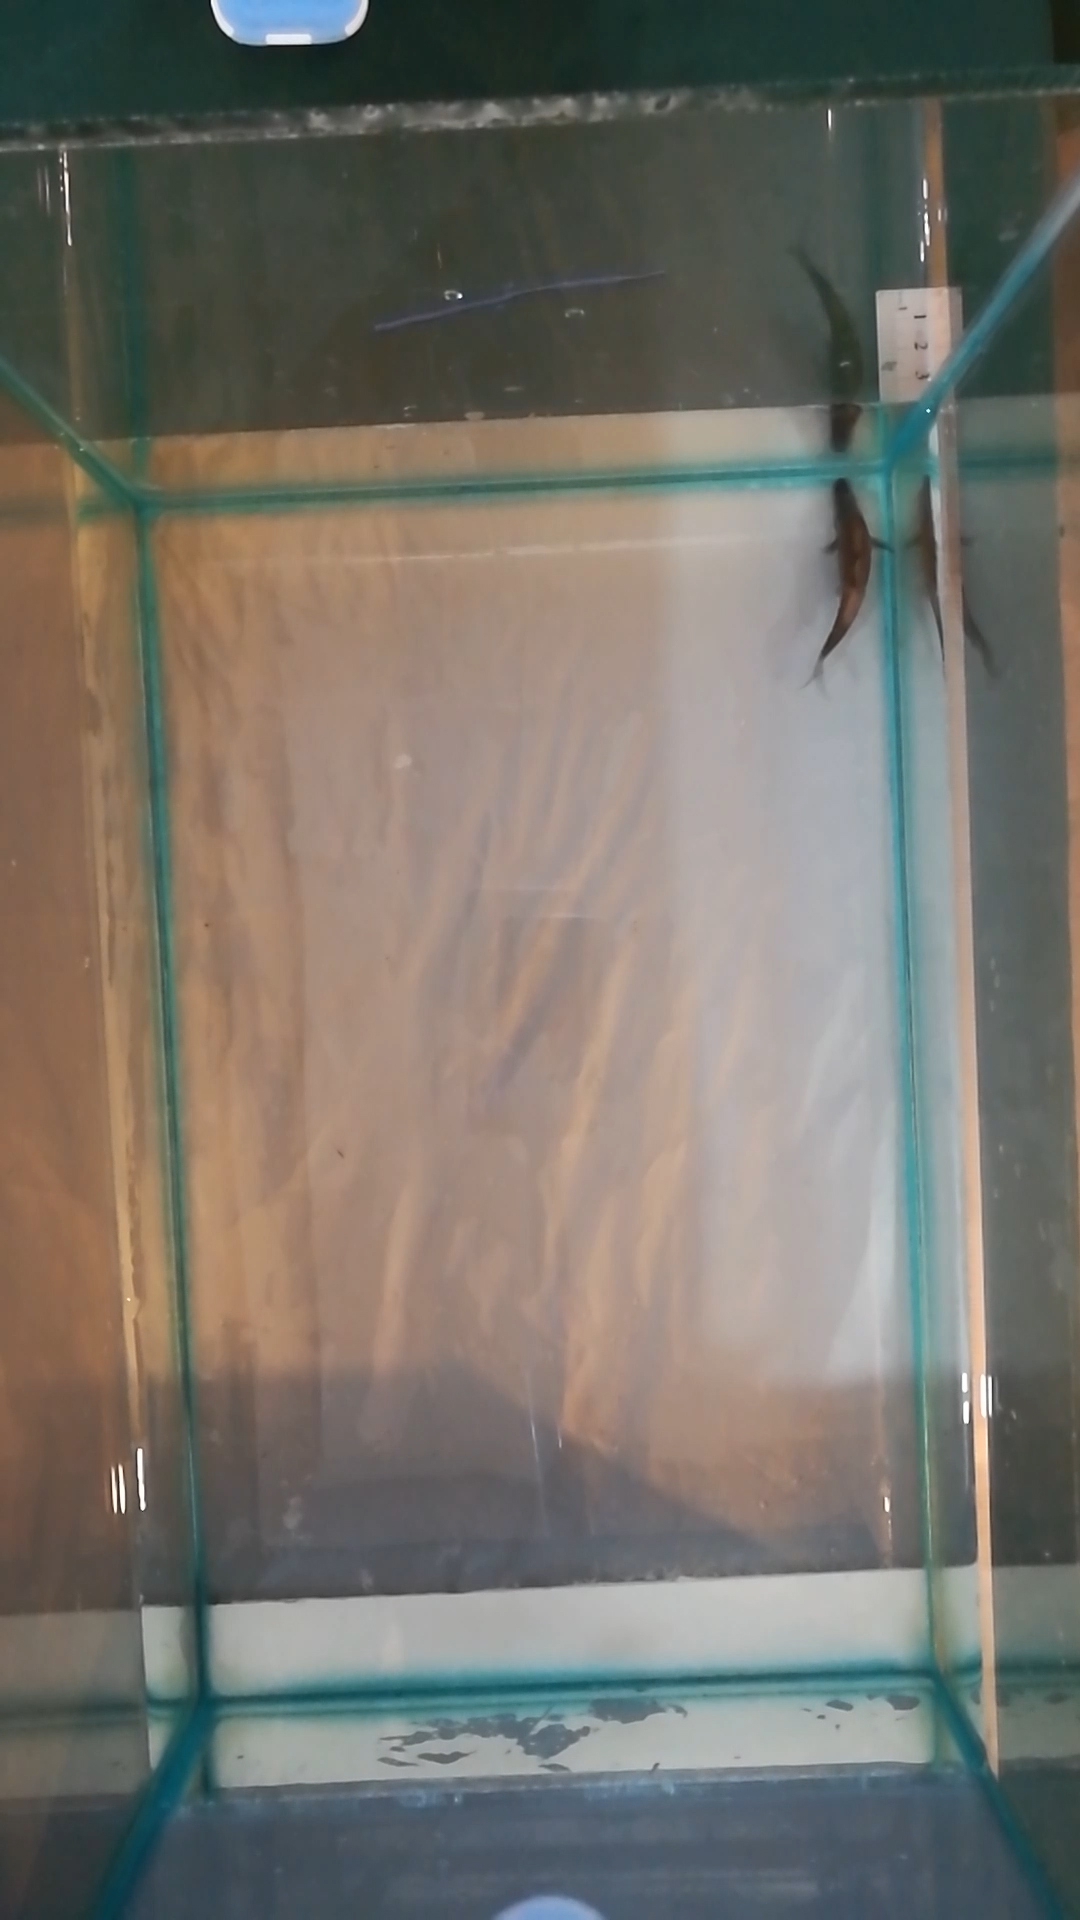fish: (811, 473, 895, 686)
